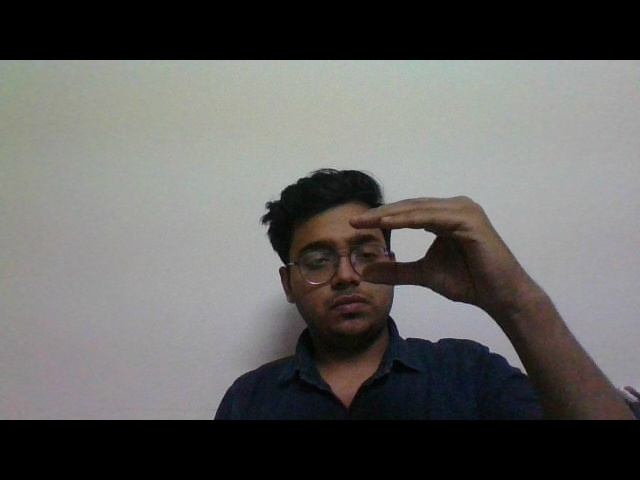no: (340, 180, 564, 362)
